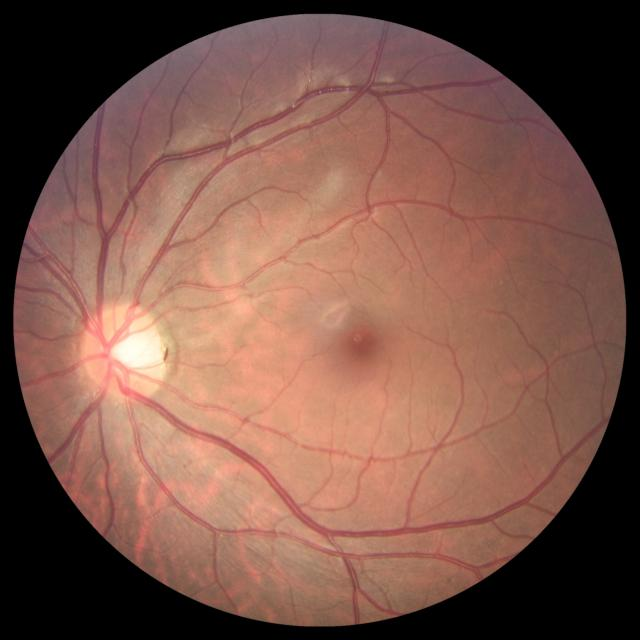OC: (109, 330, 156, 372)
OD: (80, 299, 168, 406)
